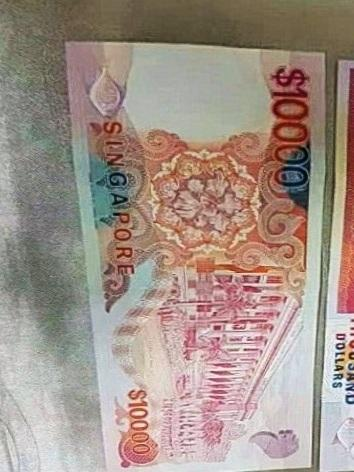10000SingaporeDollar: (90, 53, 320, 466)
